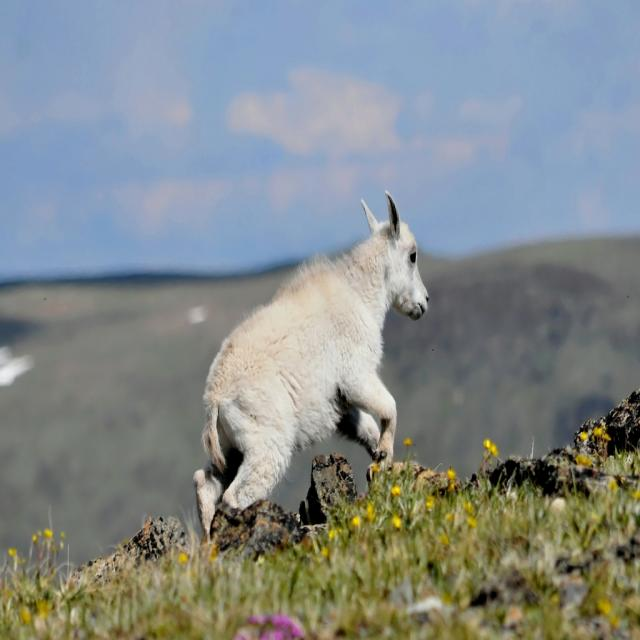Goat: (186, 199, 435, 531)
